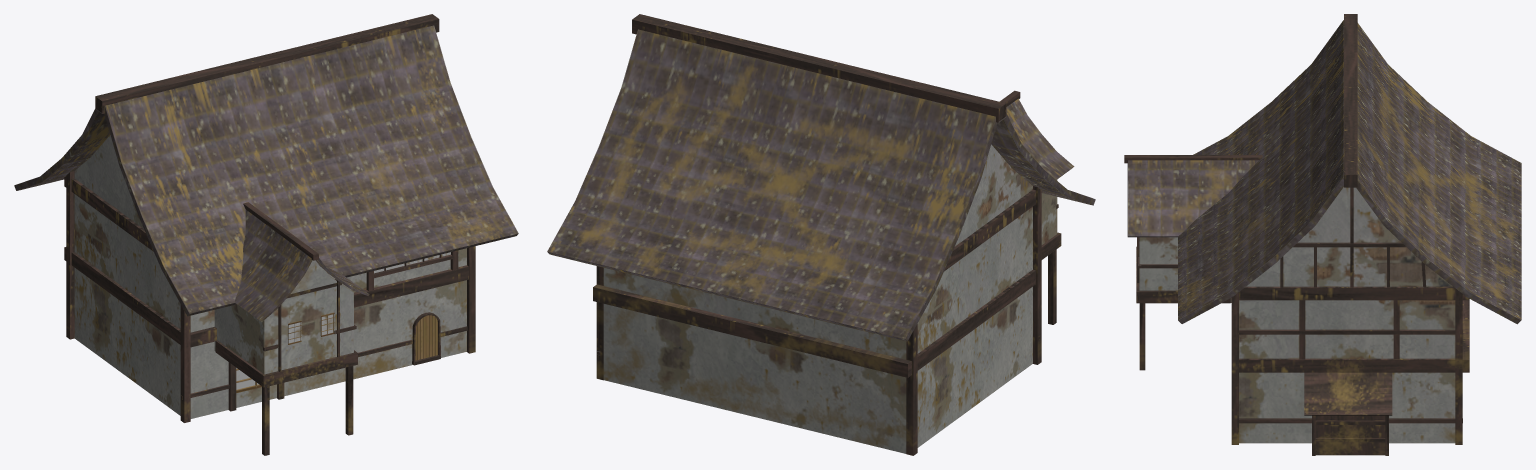
File: medieval_house.glb
The picture shows the model from 3 angles, left to right: view 1: azimuth 30°, elevation 25°; view 2: azimuth 150°, elevation 25°; view 3: azimuth 270°, elevation 25°; orthographic projection. The views are drawn at different scales.
Parts seen in each view (by area): view 1: polySurface285; view 2: polySurface285; view 3: polySurface285.
Boxes of the visible parts, x1,y1,x2,y2 form: polySurface285: [14, 14, 518, 455]; polySurface285: [547, 14, 1095, 455]; polySurface285: [1124, 14, 1521, 455].
Bounding box in the file's own units: 0.288 × 0.2298 × 0.2888.
1 material, 1 textured.
